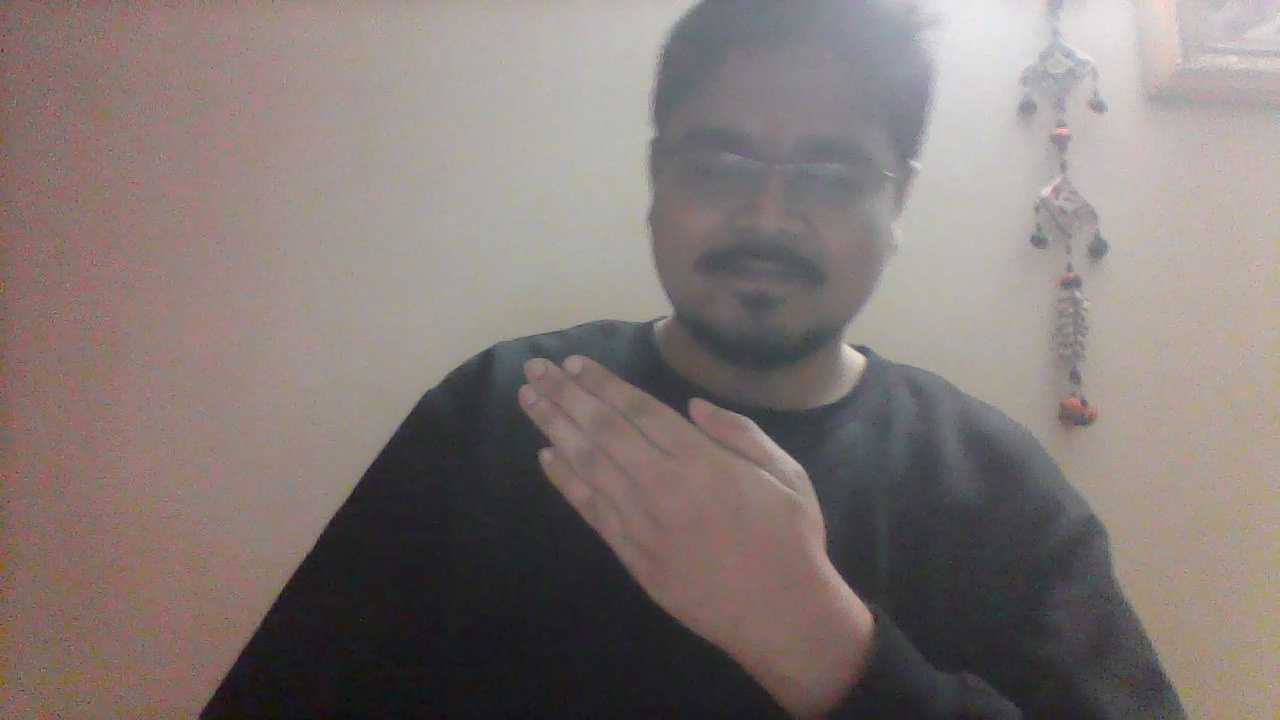Please: (513, 343, 839, 686)
